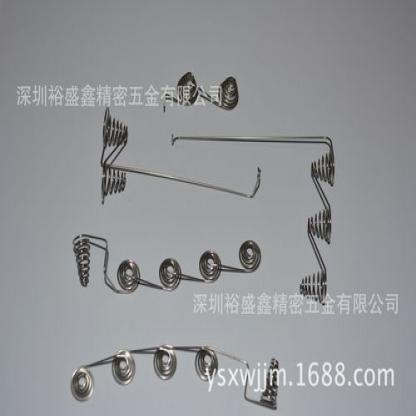FOD: (170, 129, 338, 304), (98, 105, 262, 210), (69, 341, 280, 411), (71, 229, 263, 293), (161, 69, 241, 114)
